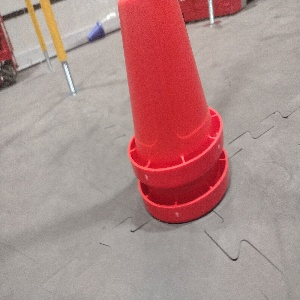Blue_1: (85, 22, 106, 43)
Red_2: (117, 0, 231, 227)
